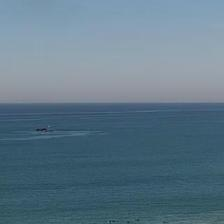surfer: (162, 221, 169, 224), (108, 220, 112, 224), (126, 221, 130, 223), (137, 218, 139, 222), (112, 220, 115, 222), (93, 223, 97, 223)
